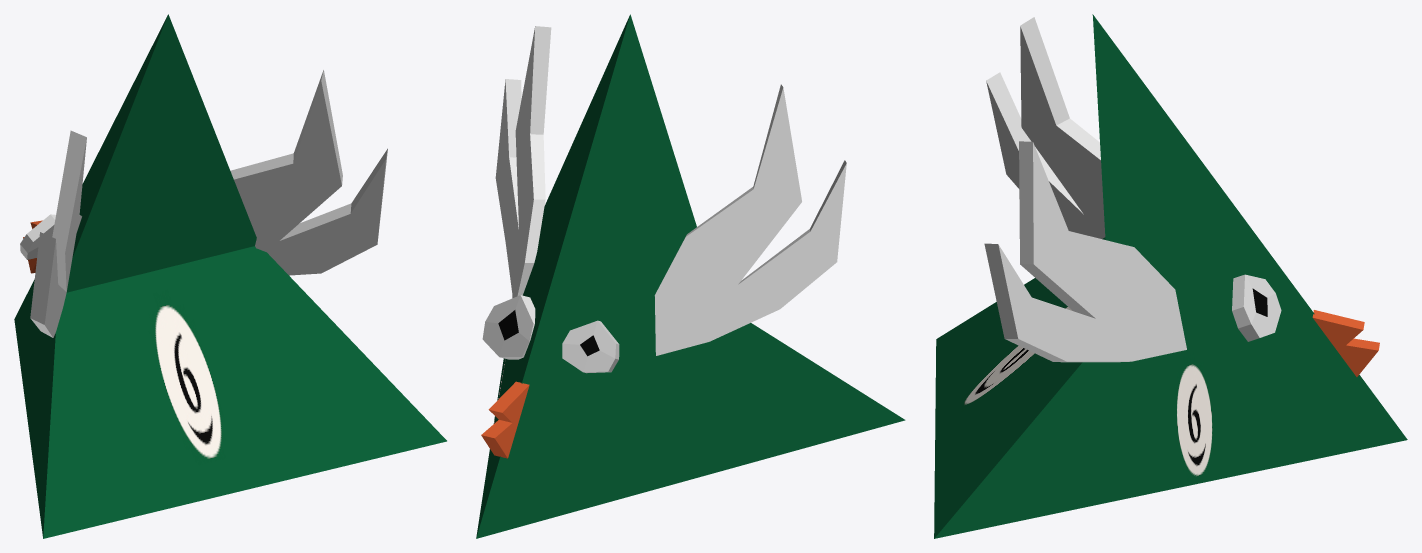
The model's file is bird6.fbx.
3 views of the same model, side by side, from view 1: azimuth 30°, elevation 25°; view 2: azimuth 150°, elevation 25°; view 3: azimuth 270°, elevation 25° (orthographic). The views are drawn at different scales.
Visible parts, largest first — view 1: 6; view 2: 6; view 3: 6.
Part boxes in pixels (bbox=[...]): 6: bbox=[14, 14, 446, 538]; 6: bbox=[476, 14, 905, 538]; 6: bbox=[934, 14, 1407, 538].
Bounding box in the file's own units: 1.23 × 1.23 × 1.22.
